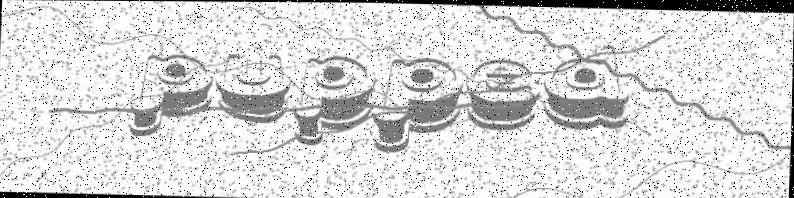d: (542, 38, 637, 143)
e: (465, 56, 545, 138)
p: (284, 49, 380, 148), (372, 57, 466, 157), (130, 45, 217, 142)
u: (212, 46, 297, 125)
